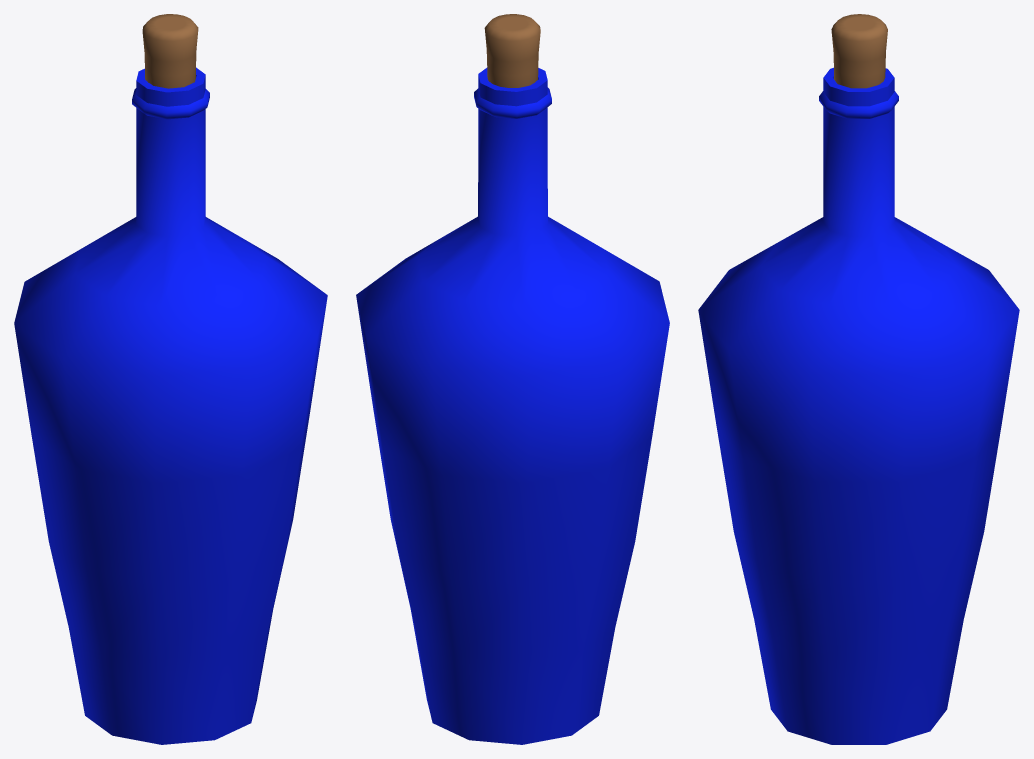
Rendered from WineBottleVar3.fbx.
The picture shows the model from 3 angles, left to right: view 1: azimuth 30°, elevation 25°; view 2: azimuth 150°, elevation 25°; view 3: azimuth 270°, elevation 25°; orthographic projection.
Parts seen in each view (by area): view 1: WineBottleVar3; view 2: WineBottleVar3; view 3: WineBottleVar3.
Part boxes in pixels (x1,y1,x2,y2): WineBottleVar3: (14,14,327,744); WineBottleVar3: (356,14,669,744); WineBottleVar3: (698,14,1019,744).
Size of the model in its own units: 36.2 by 89.61 by 38.07.
